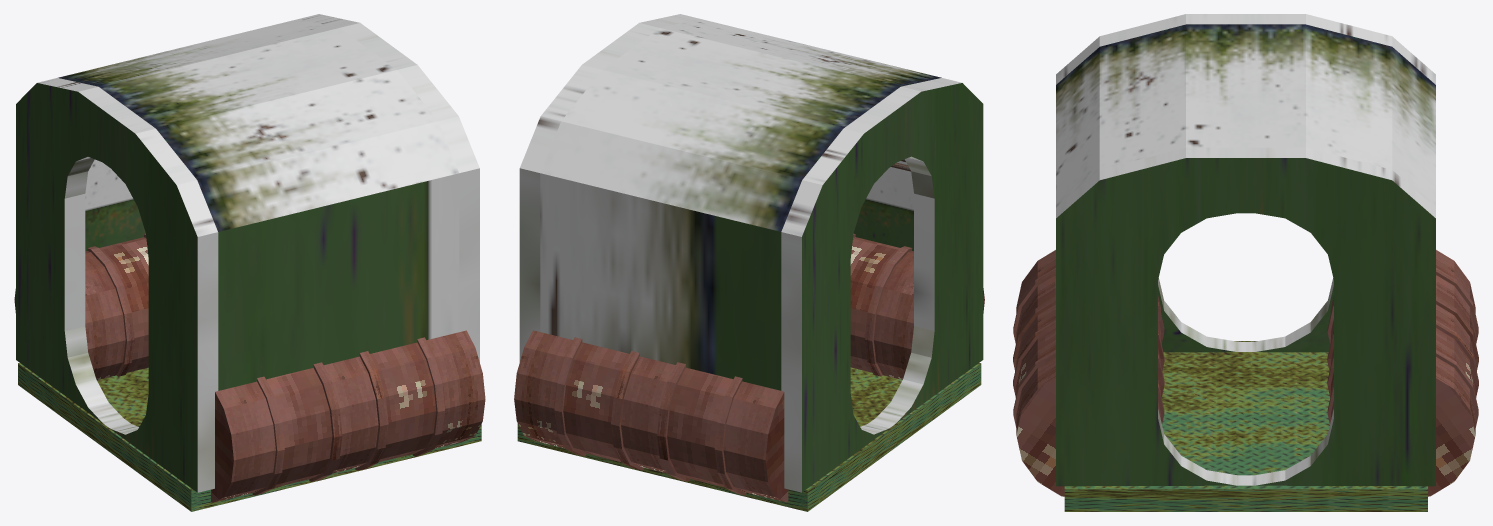
File: Copy of sas2.fbx
3 renders of one model, left to right at view 1: azimuth 30°, elevation 25°; view 2: azimuth 150°, elevation 25°; view 3: azimuth 270°, elevation 25°, orthographic. The views are drawn at different scales.
Visible parts, largest first — view 1: hull, reservoirs, floor.001; view 2: hull, reservoirs, floor.001; view 3: hull, floor.001, reservoirs.
Boxes of the visible parts, x1,y1,x2,y2 form: hull: (16,14,479,492); reservoirs: (14,233,485,502); floor.001: (18,363,481,511); hull: (519,14,983,492); reservoirs: (514,233,984,502); floor.001: (517,363,981,511); hull: (1056,14,1435,486); floor.001: (1064,341,1427,511); reservoirs: (1013,250,1478,496).
Bounding box in the file's own units: 280 × 311 × 372.
14 materials, 13 textured.
